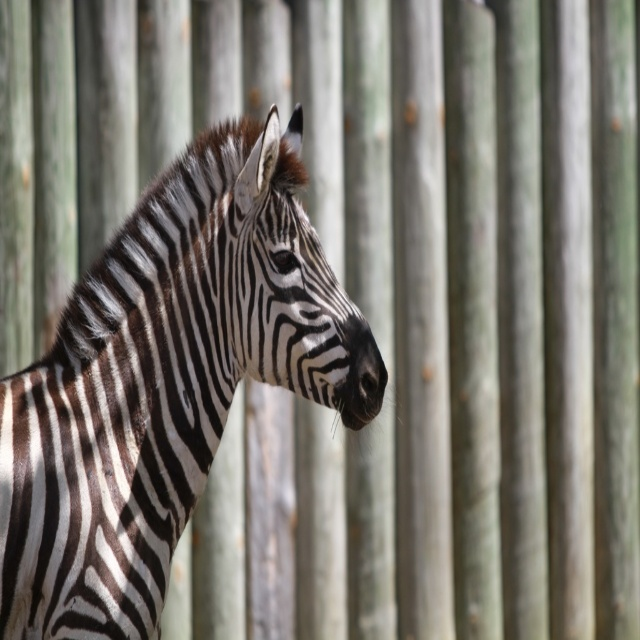Zebra: (0, 102, 404, 640)
